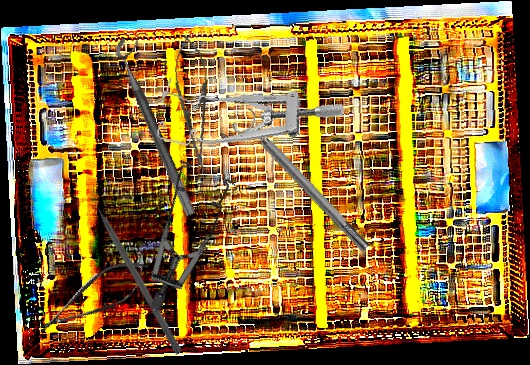Fixation Ring: (229, 106, 377, 260), (111, 33, 211, 217)
Micro Scissor: (30, 248, 158, 347)
Needle Holder: (169, 32, 218, 177)
Pusher: (84, 186, 185, 356)
Speculum: (91, 143, 269, 313), (152, 62, 346, 179)
